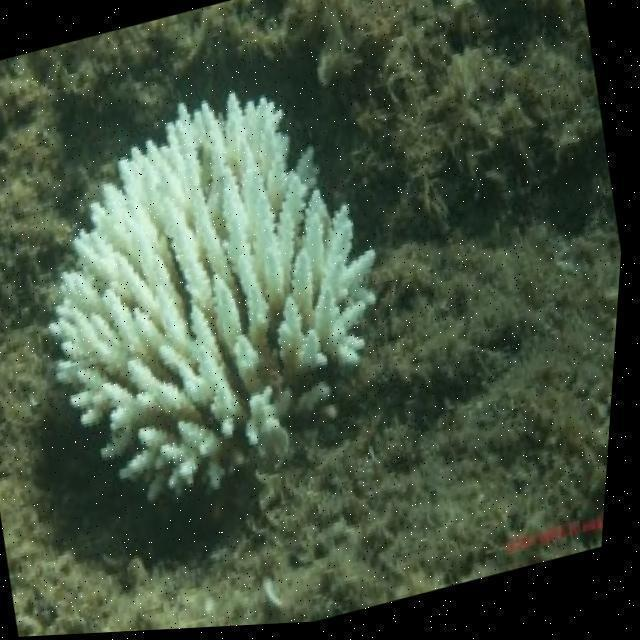Bleached Coral: (48, 89, 384, 523)
